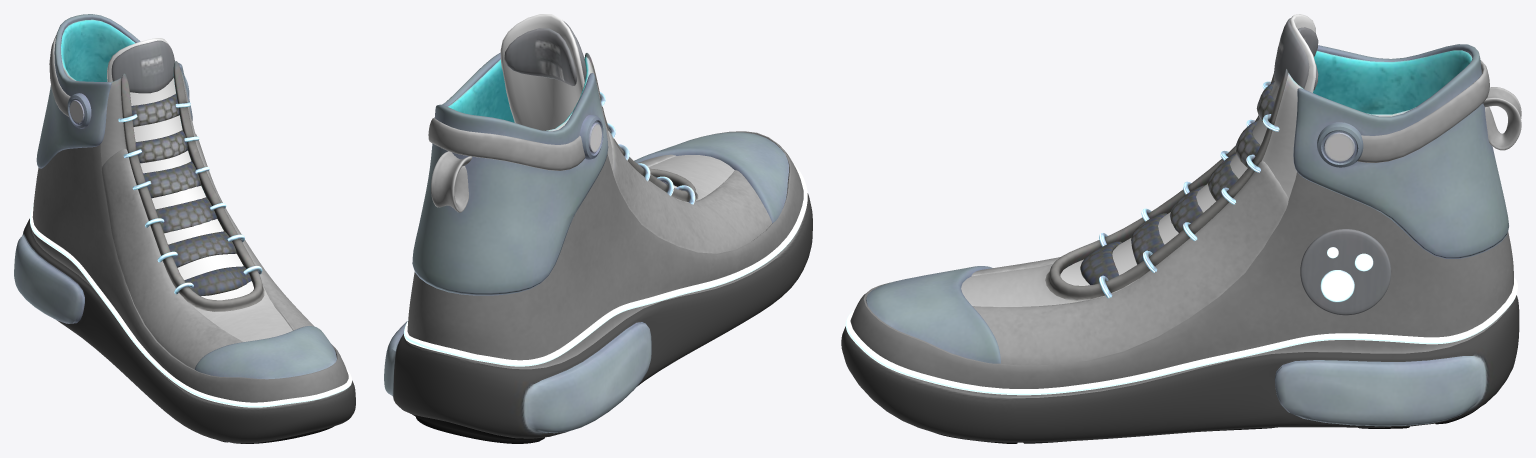
Rendered from sci-fi_sneaker.glb.
3 views of the same model, side by side, from view 1: azimuth 30°, elevation 25°; view 2: azimuth 150°, elevation 25°; view 3: azimuth 270°, elevation 25° (orthographic). The views are drawn at different scales.
Visible parts, largest first — view 1: Sockbottom.001, Sock, Sock.001, Laces.001, Tongue.001, Neck.001, SockBrand.001, curve.001, Laceadditions.001, NeckCylinders.001, Neckaddition.001; view 2: Sockbottom.001, Neck.001, Sock, Sock.001, Tongue.001, Neckaddition.001, curve.001, SockBrand.001, tail.001, NeckCylinders.001, traces.001, Laceadditions.001; view 3: Sockbottom.001, Sock, Neck.001, Sock.001, FokurLogo.001, curve.001, Laces.001, Neckaddition.001, Tongue.001, SockBrand.001, NeckCylinders.001, tail.001 (+1 smaller).
Boxes of the visible parts, bbox=[...] form: Sockbottom.001: bbox=[14, 144, 355, 443]; Sock: bbox=[101, 132, 336, 379]; Sock.001: bbox=[61, 19, 292, 341]; Laces.001: bbox=[131, 94, 251, 296]; Tongue.001: bbox=[107, 38, 253, 300]; Neck.001: bbox=[36, 14, 192, 168]; SockBrand.001: bbox=[111, 40, 174, 93]; curve.001: bbox=[30, 204, 351, 407]; Laceadditions.001: bbox=[118, 102, 262, 294]; NeckCylinders.001: bbox=[67, 75, 189, 128]; Neckaddition.001: bbox=[49, 35, 70, 116]; Sockbottom.001: bbox=[384, 131, 812, 438]; Neck.001: bbox=[412, 52, 608, 295]; Sock: bbox=[608, 130, 788, 253]; Sock.001: bbox=[412, 53, 734, 439]; Tongue.001: bbox=[500, 14, 676, 188]; Neckaddition.001: bbox=[428, 117, 585, 170]; curve.001: bbox=[404, 164, 807, 366]; SockBrand.001: bbox=[504, 21, 586, 85]; tail.001: bbox=[431, 151, 472, 212]; NeckCylinders.001: bbox=[579, 115, 603, 159]; traces.001: bbox=[416, 417, 544, 443]; Laceadditions.001: bbox=[599, 92, 695, 204]; Sockbottom.001: bbox=[841, 172, 1519, 442]; Sock: bbox=[866, 161, 1288, 365]; Neck.001: bbox=[1293, 44, 1508, 258]; Sock.001: bbox=[961, 50, 1472, 306]; FokurLogo.001: bbox=[1300, 229, 1391, 315]; curve.001: bbox=[845, 278, 1517, 395]; Laces.001: bbox=[1080, 82, 1274, 284]; Neckaddition.001: bbox=[1357, 60, 1489, 162]; Tongue.001: bbox=[1060, 14, 1315, 285]; SockBrand.001: bbox=[1274, 18, 1318, 90]; NeckCylinders.001: bbox=[1317, 122, 1363, 167]; tail.001: bbox=[1483, 87, 1521, 150].
Bounding box in the file's own units: 118 × 206 × 326.
Materials: 14 (14 with a texture image).
